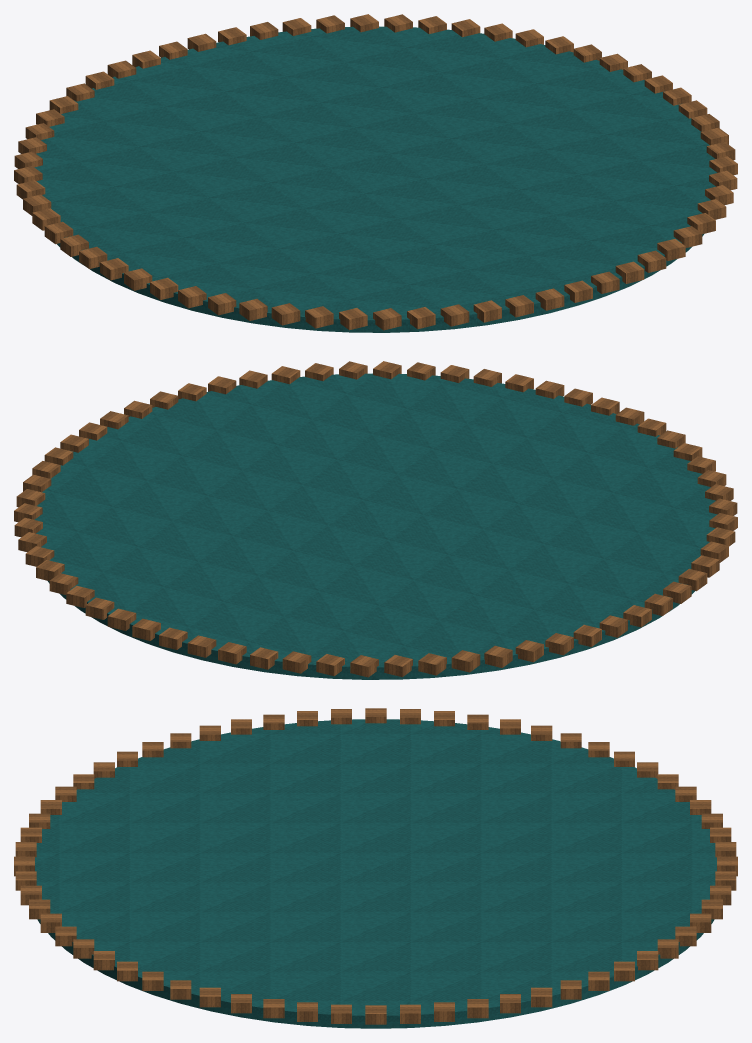
Rendered from table.glb.
3 renders of one model, top to bottom at view 1: azimuth 30°, elevation 25°; view 2: azimuth 150°, elevation 25°; view 3: azimuth 270°, elevation 25°, orthographic.
Visible parts, largest first — view 1: table; view 2: table; view 3: table.
Boxes of the visible parts, x1,y1,x2,y2 form: table: [14, 14, 737, 332]; table: [14, 361, 737, 679]; table: [14, 708, 737, 1028].
Size of the model in its own units: 30.9 by 2.4 by 30.9.
3 materials, 3 textured.
